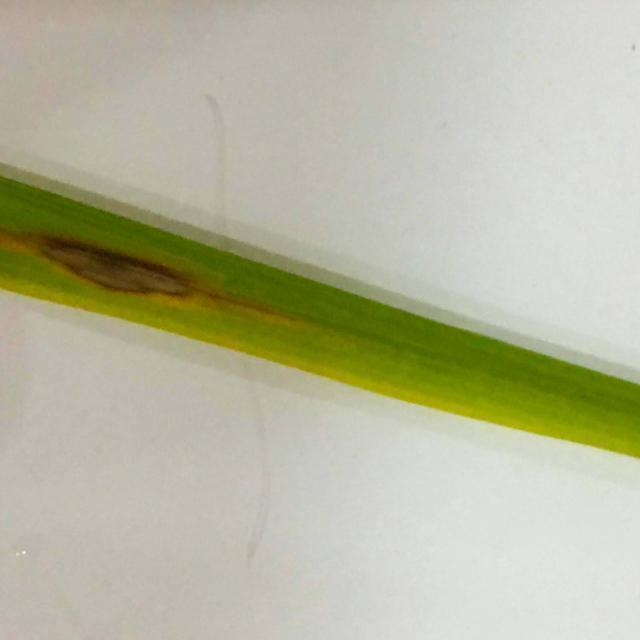Leaf_Blast: (11, 194, 213, 336)
